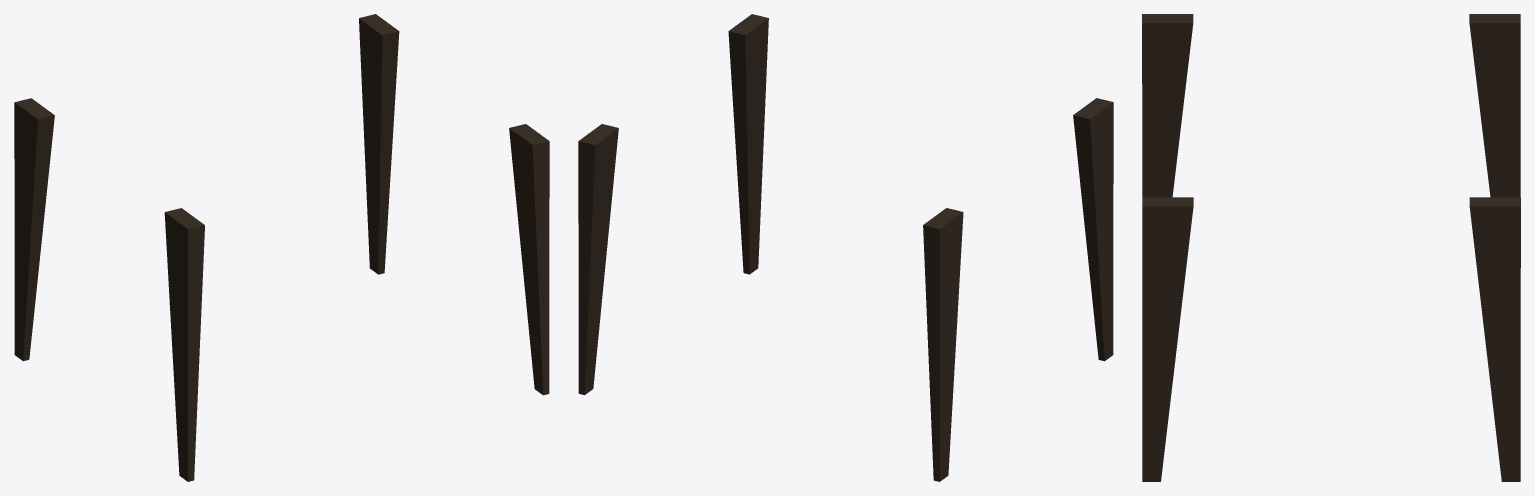
Rendered from cube.020_1_lev1.glb.
3 views of the same model, side by side, from view 1: azimuth 30°, elevation 25°; view 2: azimuth 150°, elevation 25°; view 3: azimuth 270°, elevation 25° (orthographic). The views are drawn at different scales.
Parts seen in each view (by area): view 1: cube.020_1_lev1; view 2: cube.020_1_lev1; view 3: cube.020_1_lev1.
Boxes of the visible parts, box(x1,y1,x2,y2) form: cube.020_1_lev1: box(14, 14, 549, 481); cube.020_1_lev1: box(578, 14, 1113, 481); cube.020_1_lev1: box(1142, 14, 1520, 481).
Size of the model in its own units: 2.27 by 1.52 by 1.89.
